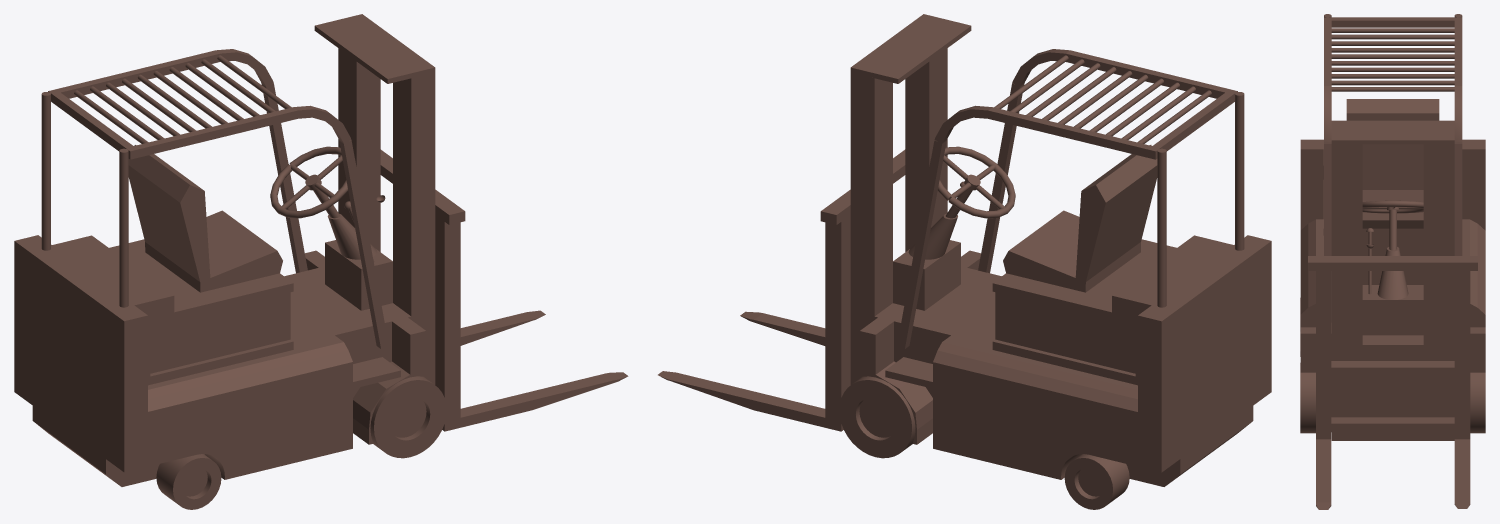
Rendered from GCC-AAV-13220-30.nwd(32).fbx.
The picture shows the model from 3 angles, left to right: view 1: azimuth 30°, elevation 25°; view 2: azimuth 150°, elevation 25°; view 3: azimuth 270°, elevation 25°; orthographic projection. The views are drawn at different scales.
Parts seen in each view (by area): view 1: EXTRUSION 3 of EQUIPMENT 73 of ZONE /13220-10-5201/ME/GT, BOX 5 of EQUIPMENT 73 of ZONE /13220-10-5201/ME/GT, EXTRUSION 2 of EQUIPMENT 73 of ZONE /13220-10-5201/ME/GT, EXTRUSION 5 of EQUIPMENT 73 of ZONE /13220-10-5201/ME/GT, BOX 4 of EQUIPMENT 73 of ZONE /13220-10-5201/ME/GT, CYLINDER 4 of EQUIPMENT 73 of ZONE /13220-10-5201/ME/GT, EXTRUSION 4 of EQUIPMENT 73 of ZONE /13220-10-5201/ME/GT, BOX 6 of EQUIPMENT 73 of ZONE /13220-10-5201/ME/GT, CYLINDER 2 of EQUIPMENT 73 of ZONE /13220-10-5201/ME/GT, BOX 7 of EQUIPMENT 73 of ZONE /13220-10-5201/ME/GT, BOX 10 of EQUIPMENT 73 of ZONE /13220-10-5201/ME/GT, BOX 11 of EQUIPMENT 73 of ZONE /13220-10-5201/ME/GT (+12 smaller); view 2: EXTRUSION 3 of EQUIPMENT 73 of ZONE /13220-10-5201/ME/GT, BOX 4 of EQUIPMENT 73 of ZONE /13220-10-5201/ME/GT, EXTRUSION 1 of EQUIPMENT 73 of ZONE /13220-10-5201/ME/GT, EXTRUSION 5 of EQUIPMENT 73 of ZONE /13220-10-5201/ME/GT, BOX 5 of EQUIPMENT 73 of ZONE /13220-10-5201/ME/GT, CYLINDER 3 of EQUIPMENT 73 of ZONE /13220-10-5201/ME/GT, EXTRUSION 4 of EQUIPMENT 73 of ZONE /13220-10-5201/ME/GT, BOX 6 of EQUIPMENT 73 of ZONE /13220-10-5201/ME/GT, CYLINDER 1 of EQUIPMENT 73 of ZONE /13220-10-5201/ME/GT, BOX 7 of EQUIPMENT 73 of ZONE /13220-10-5201/ME/GT, BOX 9 of EQUIPMENT 73 of ZONE /13220-10-5201/ME/GT, BOX 8 of EQUIPMENT 73 of ZONE /13220-10-5201/ME/GT (+12 smaller); view 3: EXTRUSION 3 of EQUIPMENT 73 of ZONE /13220-10-5201/ME/GT, BOX 4 of EQUIPMENT 73 of ZONE /13220-10-5201/ME/GT, BOX 5 of EQUIPMENT 73 of ZONE /13220-10-5201/ME/GT, EXTRUSION 5 of EQUIPMENT 73 of ZONE /13220-10-5201/ME/GT, EXTRUSION 1 of EQUIPMENT 73 of ZONE /13220-10-5201/ME/GT, EXTRUSION 2 of EQUIPMENT 73 of ZONE /13220-10-5201/ME/GT, BOX 6 of EQUIPMENT 73 of ZONE /13220-10-5201/ME/GT, BOX 7 of EQUIPMENT 73 of ZONE /13220-10-5201/ME/GT, BOX 1 of EQUIPMENT 73 of ZONE /13220-10-5201/ME/GT, BOX 2 of EQUIPMENT 73 of ZONE /13220-10-5201/ME/GT, BOX 3 of EQUIPMENT 73 of ZONE /13220-10-5201/ME/GT, EXTRUSION 4 of EQUIPMENT 73 of ZONE /13220-10-5201/ME/GT (+23 smaller).
Boxes of the visible parts, x1,y1,x2,y2 form: EXTRUSION 3 of EQUIPMENT 73 of ZONE /13220-10-5201/ME/GT: (14,235,435,486); BOX 5 of EQUIPMENT 73 of ZONE /13220-10-5201/ME/GT: (393,72,435,316); EXTRUSION 2 of EQUIPMENT 73 of ZONE /13220-10-5201/ME/GT: (435,215,628,431); EXTRUSION 5 of EQUIPMENT 73 of ZONE /13220-10-5201/ME/GT: (128,145,210,281); BOX 4 of EQUIPMENT 73 of ZONE /13220-10-5201/ME/GT: (338,48,380,251); CYLINDER 4 of EQUIPMENT 73 of ZONE /13220-10-5201/ME/GT: (370,376,446,458); EXTRUSION 4 of EQUIPMENT 73 of ZONE /13220-10-5201/ME/GT: (145,210,282,292); BOX 6 of EQUIPMENT 73 of ZONE /13220-10-5201/ME/GT: (314,14,435,83); CYLINDER 2 of EQUIPMENT 73 of ZONE /13220-10-5201/ME/GT: (156,454,221,509); BOX 7 of EQUIPMENT 73 of ZONE /13220-10-5201/ME/GT: (325,240,392,310); BOX 10 of EQUIPMENT 73 of ZONE /13220-10-5201/ME/GT: (339,140,388,348); BOX 11 of EQUIPMENT 73 of ZONE /13220-10-5201/ME/GT: (125,107,297,159); EXTRUSION 3 of EQUIPMENT 73 of ZONE /13220-10-5201/ME/GT: (850,235,1271,486); BOX 4 of EQUIPMENT 73 of ZONE /13220-10-5201/ME/GT: (850,72,892,316); EXTRUSION 1 of EQUIPMENT 73 of ZONE /13220-10-5201/ME/GT: (658,215,850,431); EXTRUSION 5 of EQUIPMENT 73 of ZONE /13220-10-5201/ME/GT: (1075,145,1157,281); BOX 5 of EQUIPMENT 73 of ZONE /13220-10-5201/ME/GT: (905,48,947,251); CYLINDER 3 of EQUIPMENT 73 of ZONE /13220-10-5201/ME/GT: (839,376,915,458); EXTRUSION 4 of EQUIPMENT 73 of ZONE /13220-10-5201/ME/GT: (1003,210,1140,292); BOX 6 of EQUIPMENT 73 of ZONE /13220-10-5201/ME/GT: (850,14,971,83); CYLINDER 1 of EQUIPMENT 73 of ZONE /13220-10-5201/ME/GT: (1064,454,1129,509); BOX 7 of EQUIPMENT 73 of ZONE /13220-10-5201/ME/GT: (893,240,960,310); BOX 9 of EQUIPMENT 73 of ZONE /13220-10-5201/ME/GT: (897,140,946,348); BOX 8 of EQUIPMENT 73 of ZONE /13220-10-5201/ME/GT: (988,107,1160,159); EXTRUSION 3 of EQUIPMENT 73 of ZONE /13220-10-5201/ME/GT: (1300,139,1485,440); BOX 4 of EQUIPMENT 73 of ZONE /13220-10-5201/ME/GT: (1423,144,1454,344); BOX 5 of EQUIPMENT 73 of ZONE /13220-10-5201/ME/GT: (1331,144,1362,344); EXTRUSION 5 of EQUIPMENT 73 of ZONE /13220-10-5201/ME/GT: (1346,99,1439,189); EXTRUSION 1 of EQUIPMENT 73 of ZONE /13220-10-5201/ME/GT: (1454,271,1470,508); EXTRUSION 2 of EQUIPMENT 73 of ZONE /13220-10-5201/ME/GT: (1316,271,1331,509); BOX 6 of EQUIPMENT 73 of ZONE /13220-10-5201/ME/GT: (1331,120,1454,144); BOX 7 of EQUIPMENT 73 of ZONE /13220-10-5201/ME/GT: (1362,287,1423,335); BOX 1 of EQUIPMENT 73 of ZONE /13220-10-5201/ME/GT: (1308,256,1477,270); BOX 2 of EQUIPMENT 73 of ZONE /13220-10-5201/ME/GT: (1331,417,1454,432); BOX 3 of EQUIPMENT 73 of ZONE /13220-10-5201/ME/GT: (1331,361,1454,375); EXTRUSION 4 of EQUIPMENT 73 of ZONE /13220-10-5201/ME/GT: (1362,190,1423,228).
Bounding box in the file's own units: 127 × 86.42 × 47.09.
